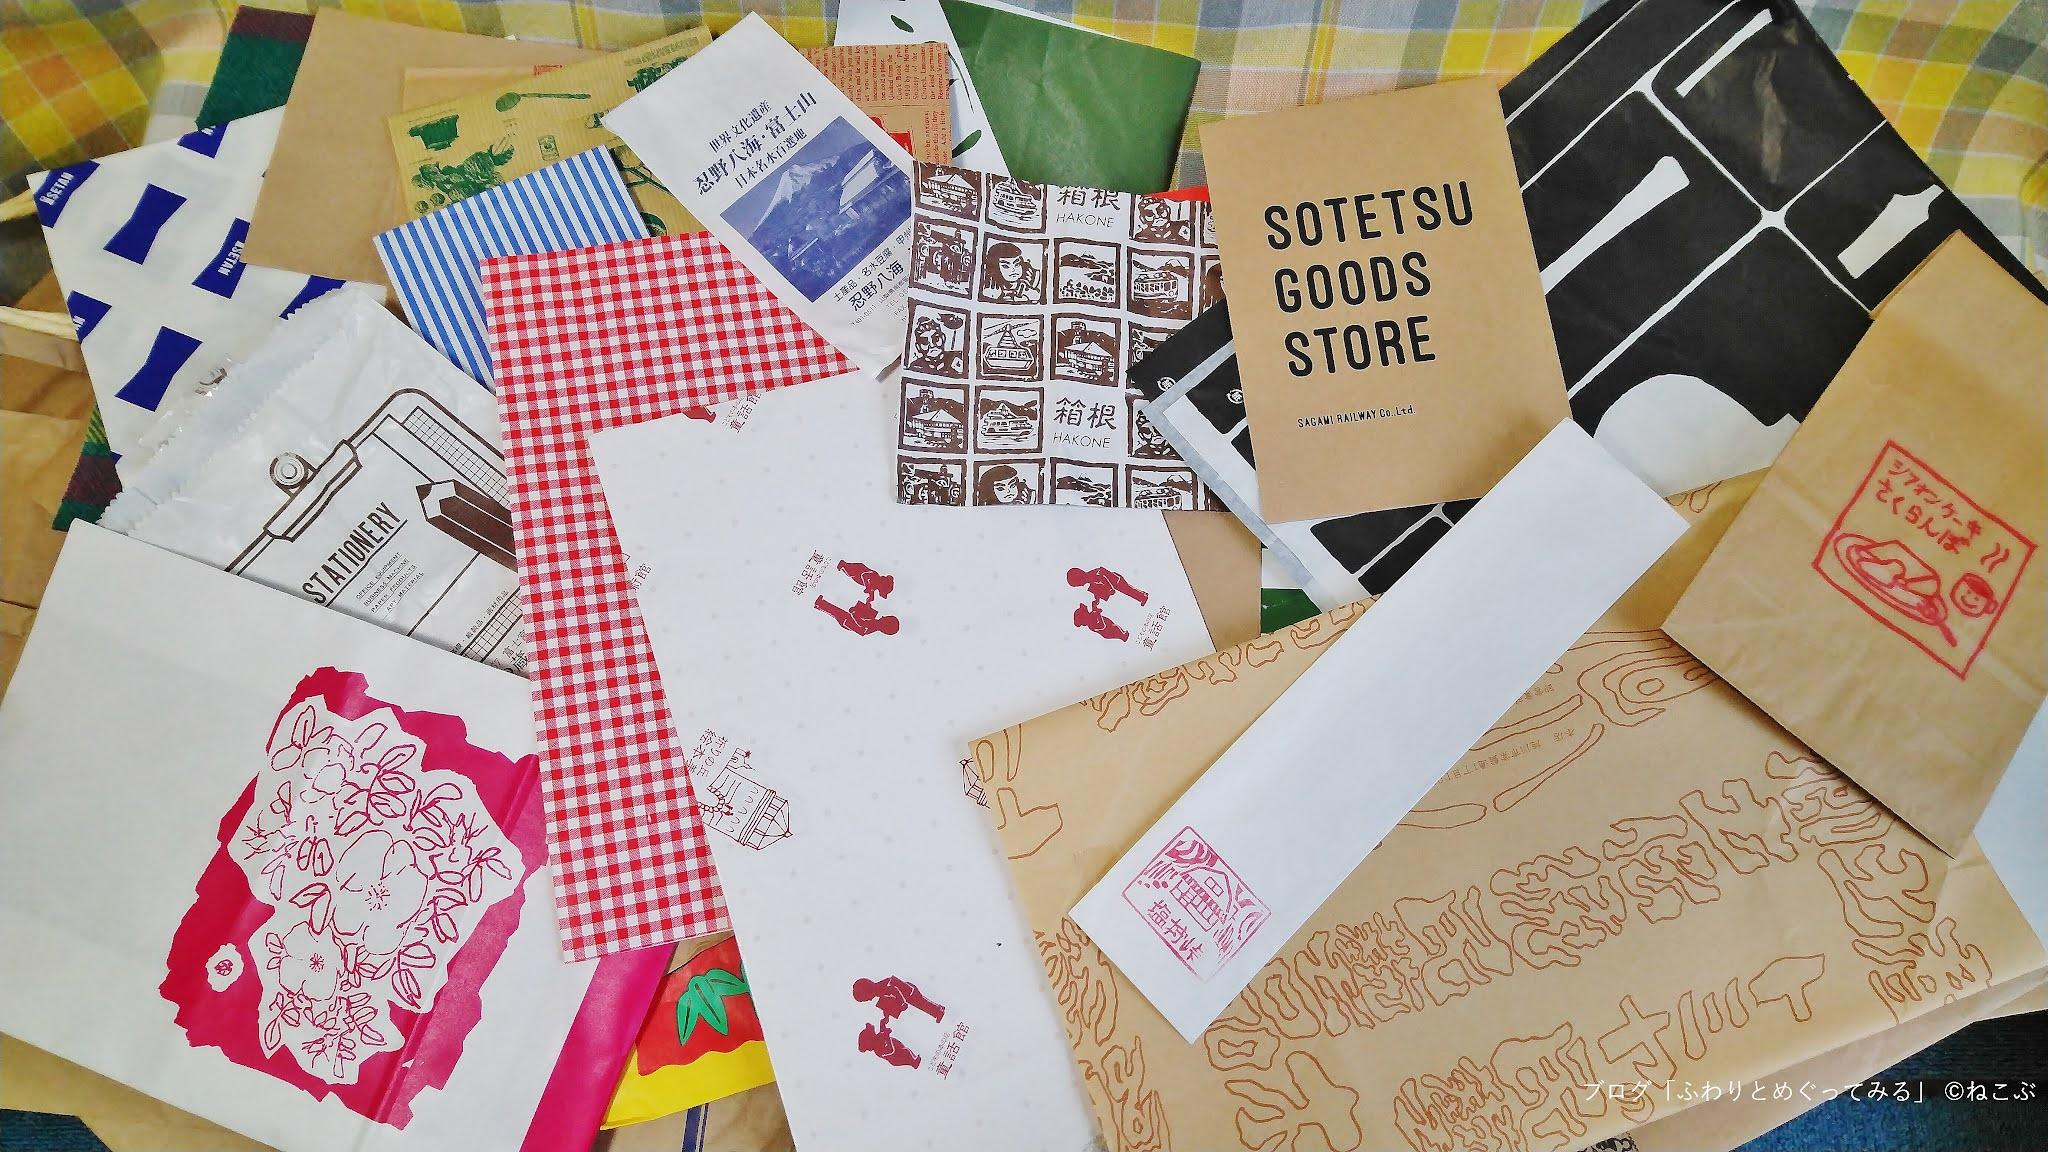cardboard: (964, 430, 2047, 1151)
paper: (0, 522, 665, 1151)
